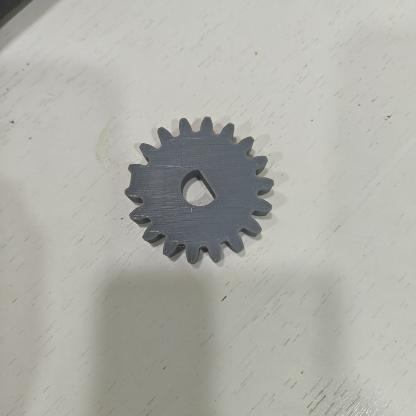defect: (189, 162, 232, 206), (116, 161, 150, 202)
gear: (112, 112, 291, 275)
